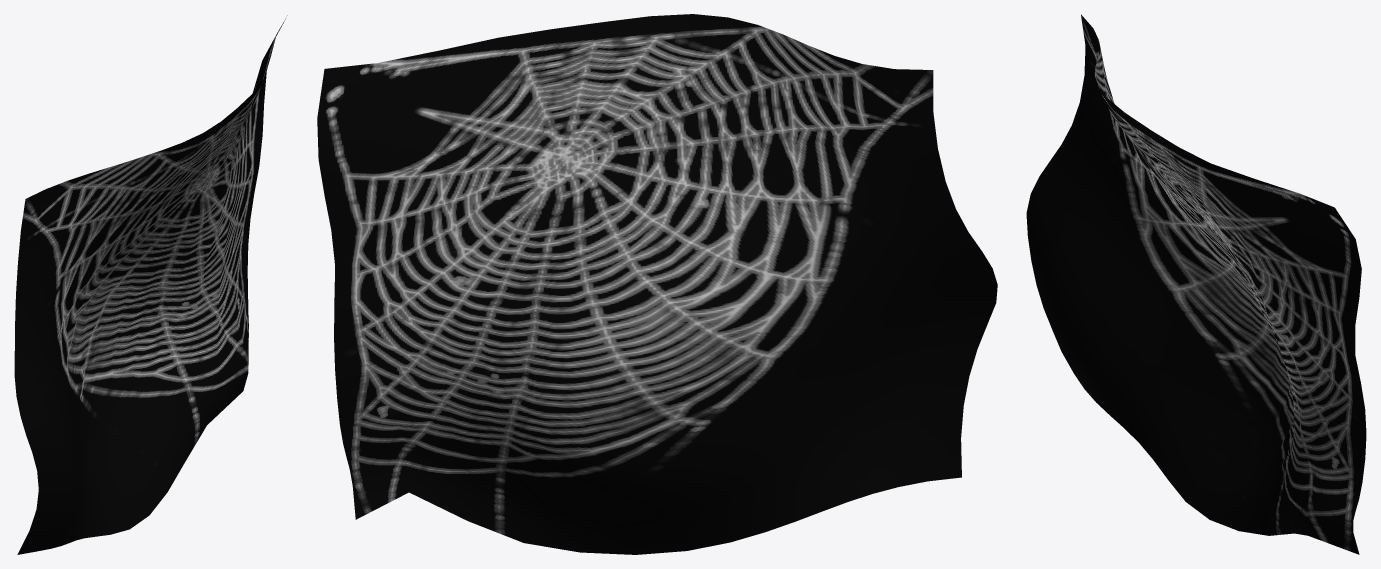
Rendered from SpiderWeb1.fbx.
3 renders of one model, left to right at view 1: azimuth 30°, elevation 25°; view 2: azimuth 150°, elevation 25°; view 3: azimuth 270°, elevation 25°, orthographic. The views are drawn at different scales.
Visible parts, largest first — view 1: SpiderWeb1; view 2: SpiderWeb1; view 3: SpiderWeb1.
Boxes of the visible parts, x1=… form: SpiderWeb1: x1=14, y1=15, x2=287, y2=554; SpiderWeb1: x1=317, y1=14, x2=997, y2=554; SpiderWeb1: x1=1026, y1=14, x2=1366, y2=554.
Bounding box in the file's own units: 27.12 × 25.96 × 18.89.
